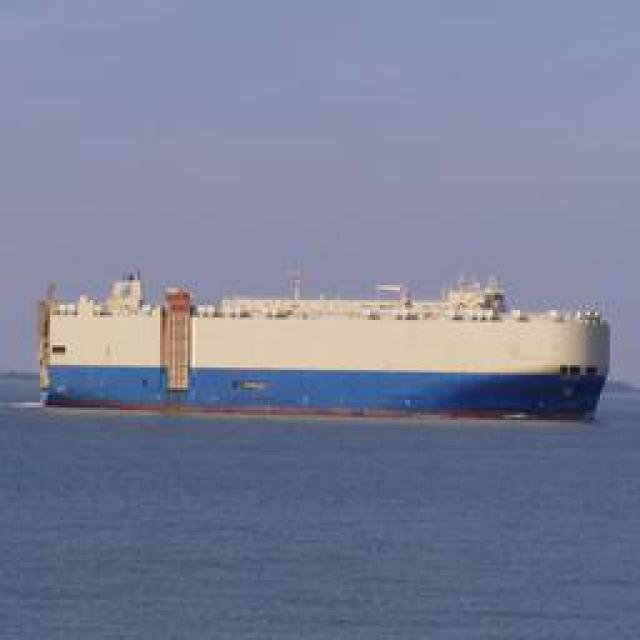Ship: (39, 271, 602, 421)
